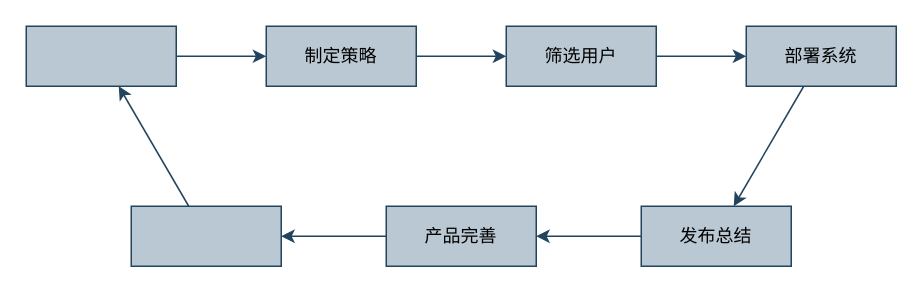
Some shapes in this 923 by 293 pixel diagram are drawn without their labels. Here are the shapes that lost their labels. From the top down, the centre of each, then its label:
pixel 100 55: 定义目标
pixel 205 235: 新一轮 灰度发布
